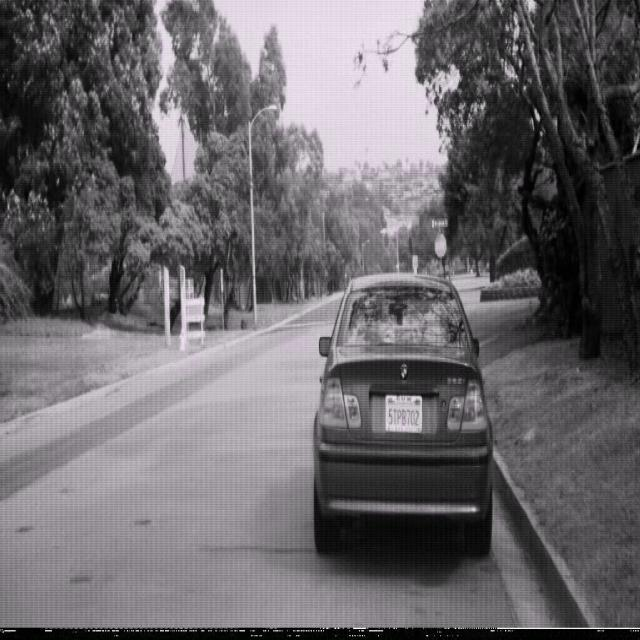stop_sign: (434, 232, 447, 258)
